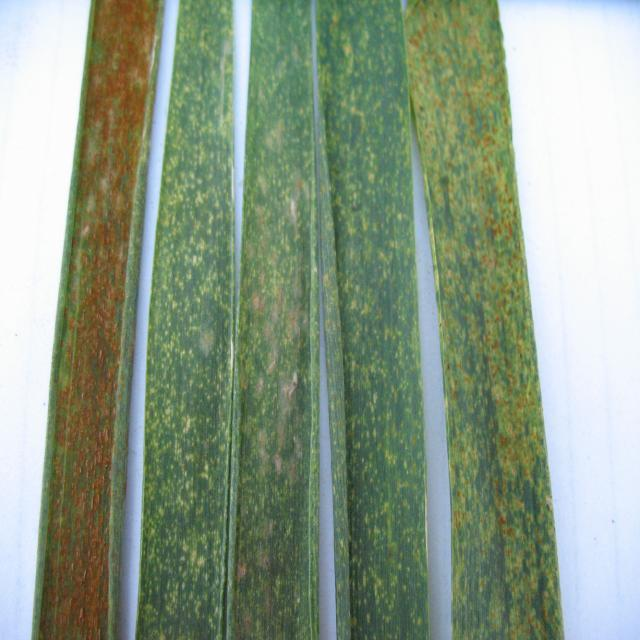wheat-powdery-mildew: (313, 0, 428, 640), (136, 0, 235, 640), (233, 0, 319, 640)
wheat-septoria: (403, 0, 566, 640)
wheat-stemrust: (31, 0, 179, 640)
